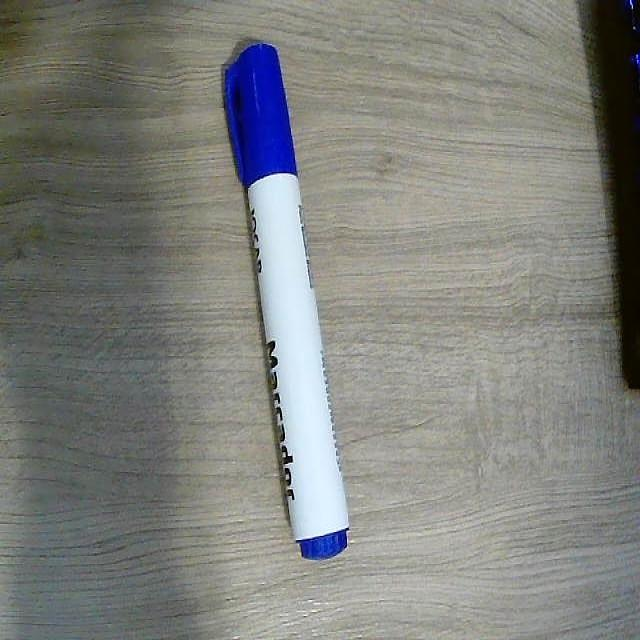caneta: (207, 42, 369, 570)
